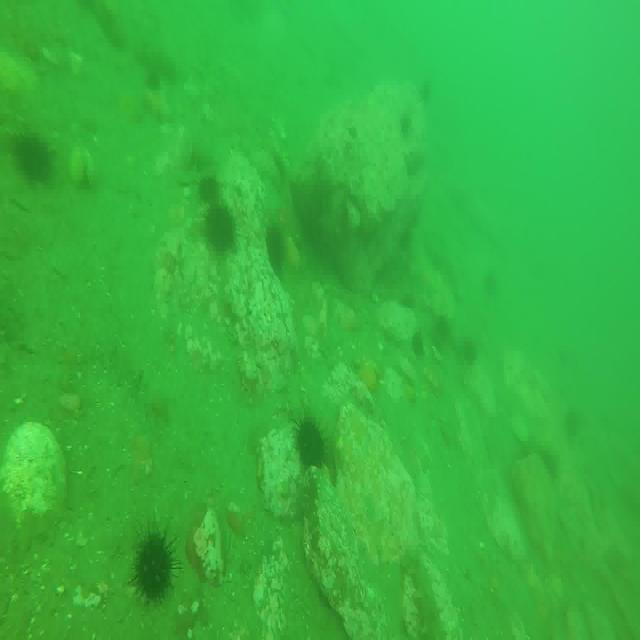echinus: (292, 419, 326, 479), (138, 535, 170, 596), (16, 136, 54, 187), (202, 205, 237, 257), (267, 220, 287, 272), (436, 308, 454, 352), (145, 63, 166, 98), (201, 173, 221, 207), (421, 82, 437, 107), (400, 112, 418, 134), (459, 340, 476, 362), (415, 330, 426, 362)
